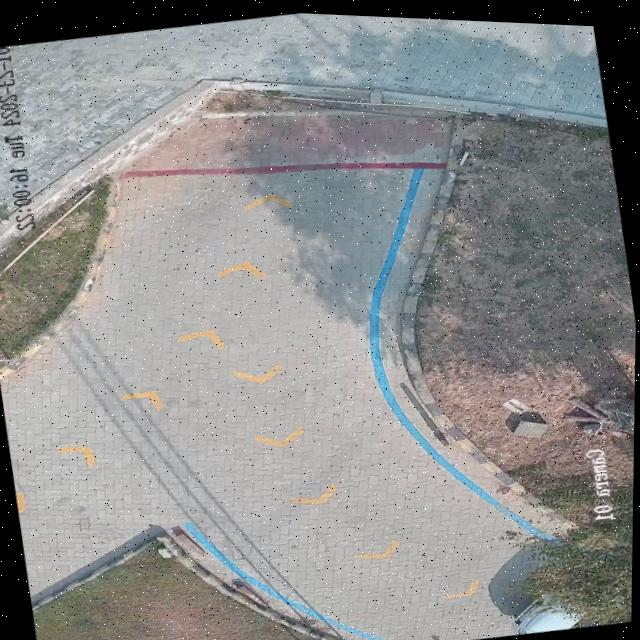car: (516, 597, 580, 630)
